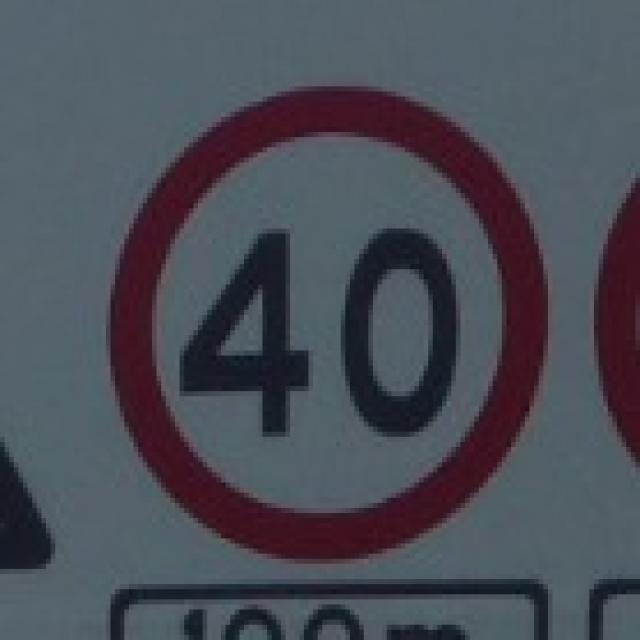Speed Limit -40-: (173, 219, 474, 446)
